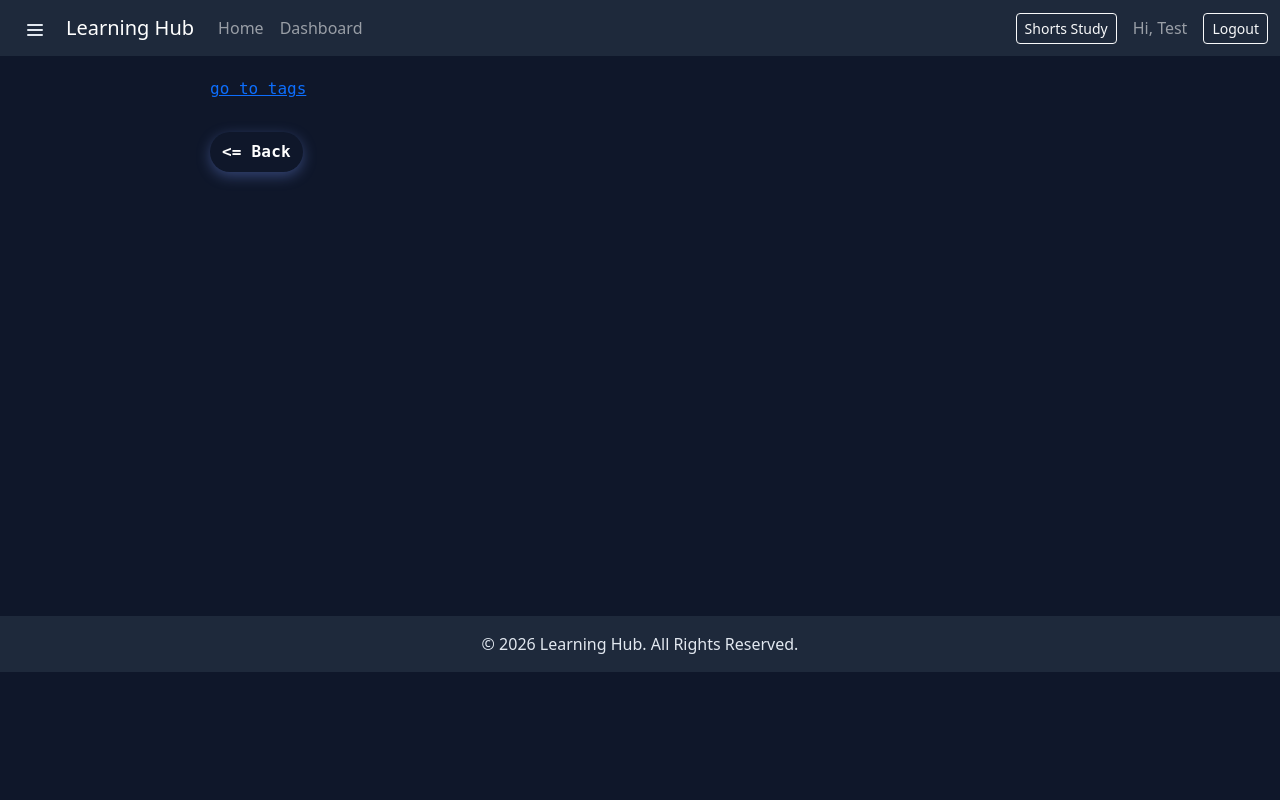
Scenario: lesson scripts (replacing the old inline handlers) › internal links inside a lesson navigate inside the app
Click the link "go to tags" at (258, 88), box [210, 79, 306, 98]
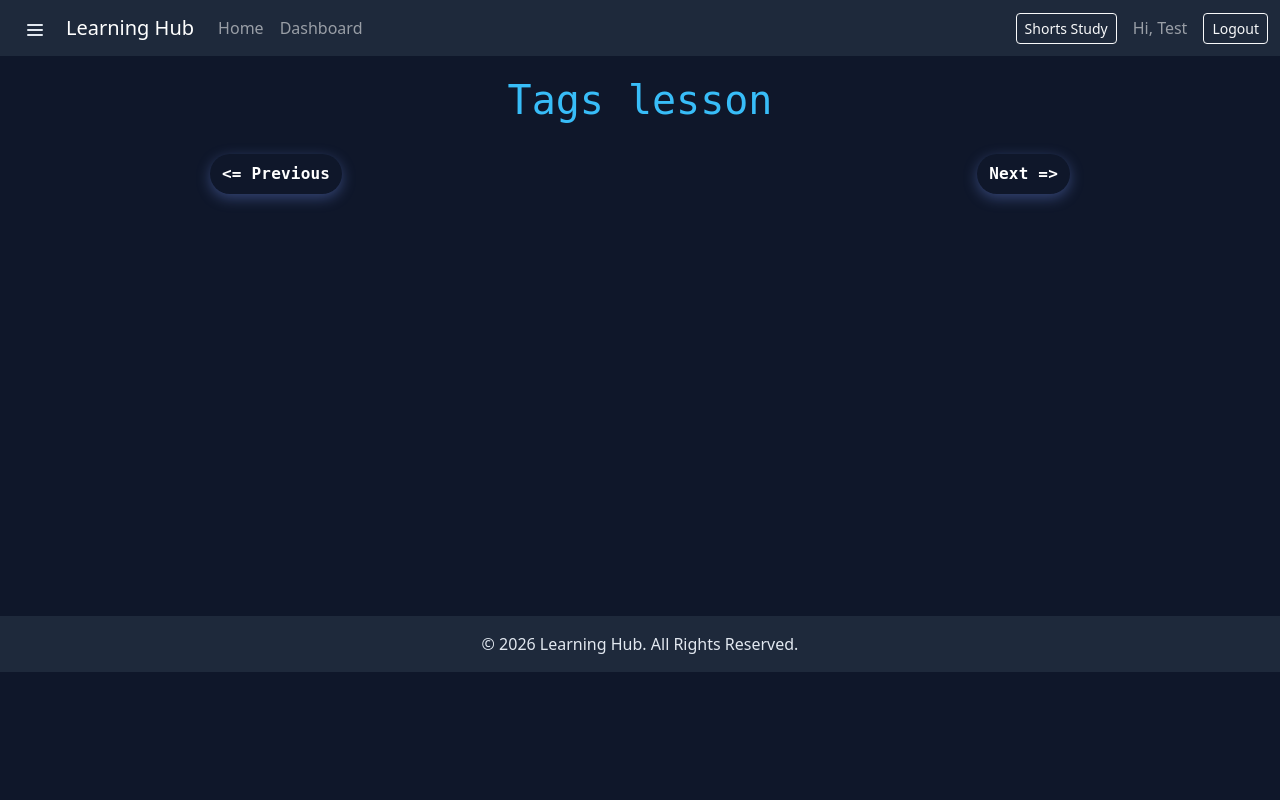
Now the heading "Tags lesson" is shown, box [508, 77, 772, 123]
